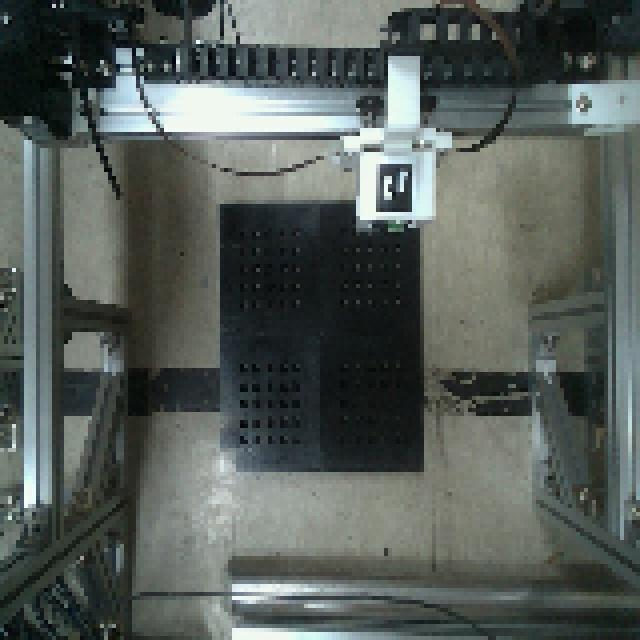pallet: (215, 195, 434, 474)
